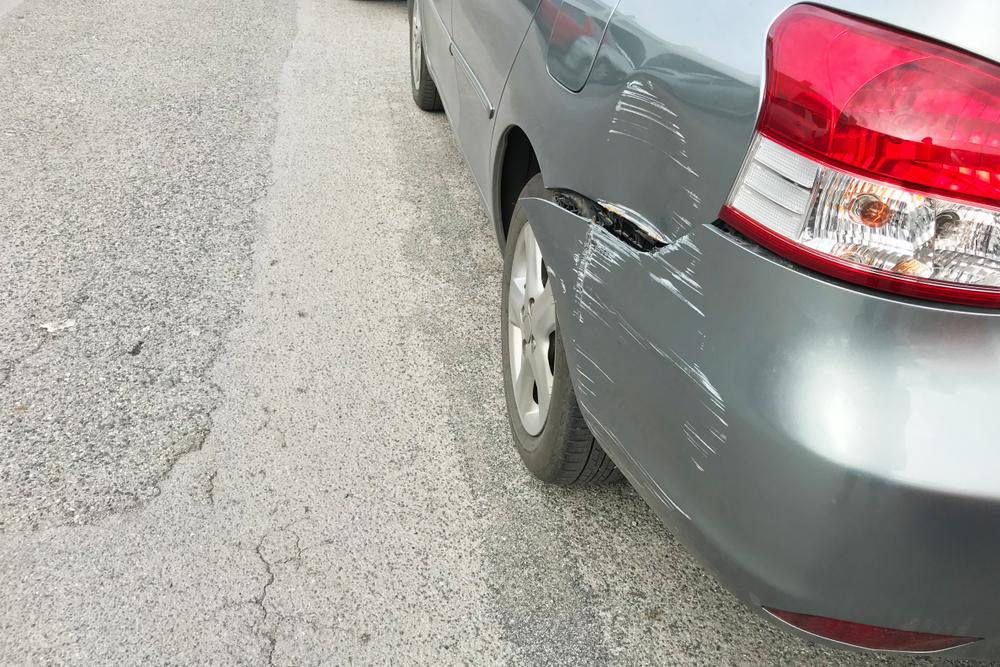dent: (608, 24, 644, 75)
scratch: (548, 222, 731, 545), (576, 76, 696, 242)
